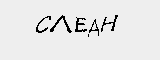Д: (86, 17, 103, 36)
Е: (73, 16, 87, 34)
Л: (49, 13, 71, 34)
Н: (100, 12, 117, 33)
С: (34, 12, 51, 33)
